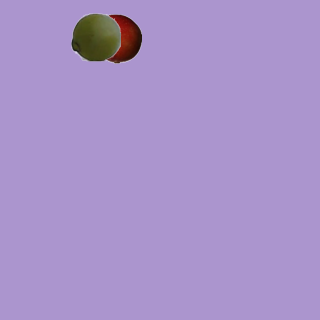Apple Braeburn: (91, 13, 141, 63)
Grape White 4: (70, 11, 120, 61)
